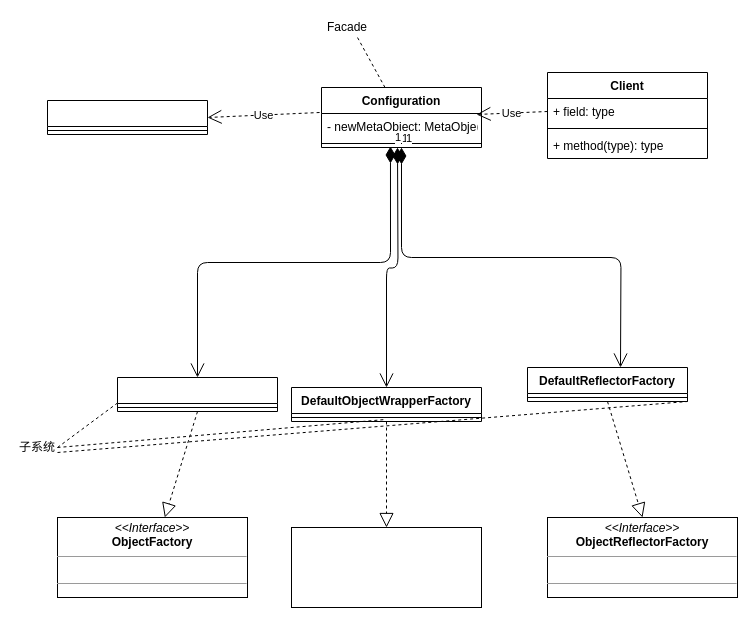
Image size: 755x625. Some labels were removed from this diagram. The shapes that lost their labels are listed below. From the top down, each one's centre as x and y in pixels, then its label:
At (x=127, y=117): "MetaObject".
At (x=197, y=394): "DefaultObjectFactory".
At (x=386, y=567): "<<Interface>> ObjectWrapperFactory".
